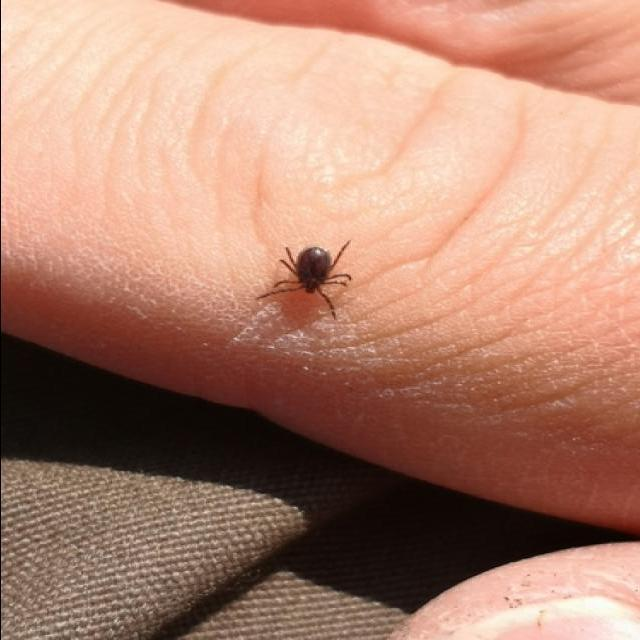Ixodes Ricinus-M: (256, 239, 350, 321)
